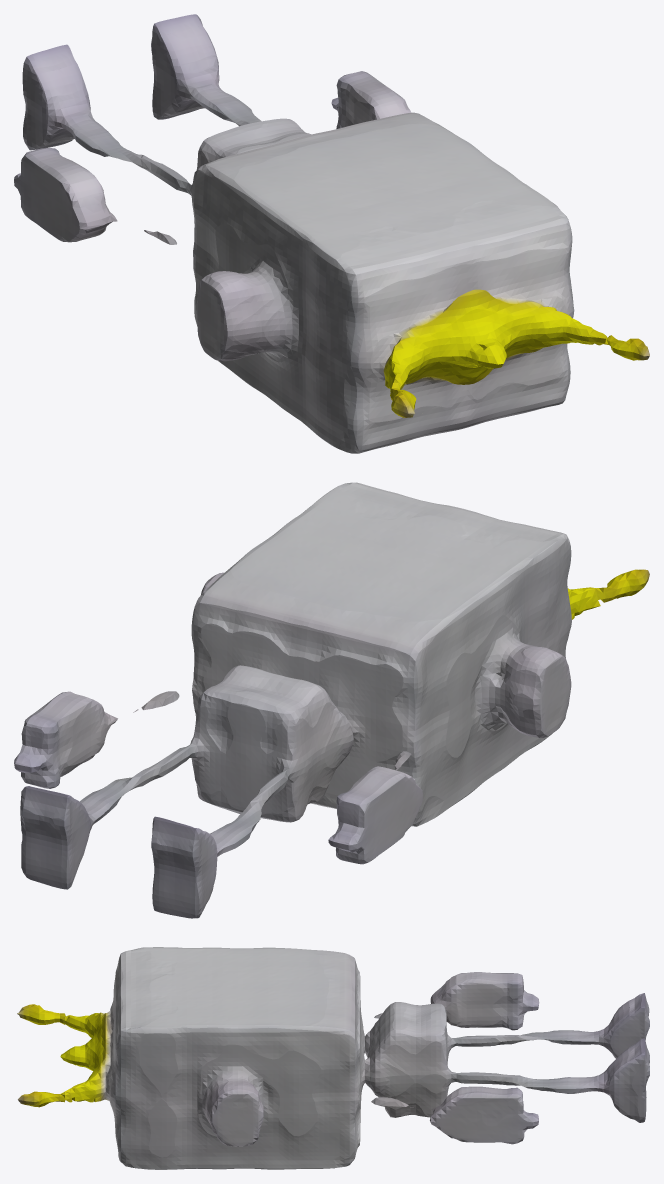
The model's file is a_robot_crown.glb.
The picture shows the model from 3 angles, top to bottom: view 1: azimuth 30°, elevation 25°; view 2: azimuth 150°, elevation 25°; view 3: azimuth 270°, elevation 25°; orthographic projection. The views are drawn at different scales.
Parts seen in each view (by area): view 1: 0.ply; view 2: 0.ply; view 3: 0.ply.
Boxes of the visible parts, bbox=[...] form: 0.ply: bbox=[14, 14, 649, 453]; 0.ply: bbox=[14, 482, 649, 918]; 0.ply: bbox=[17, 947, 649, 1169].
Size of the model in its own units: 1.04 by 0.5557 by 2.23.
